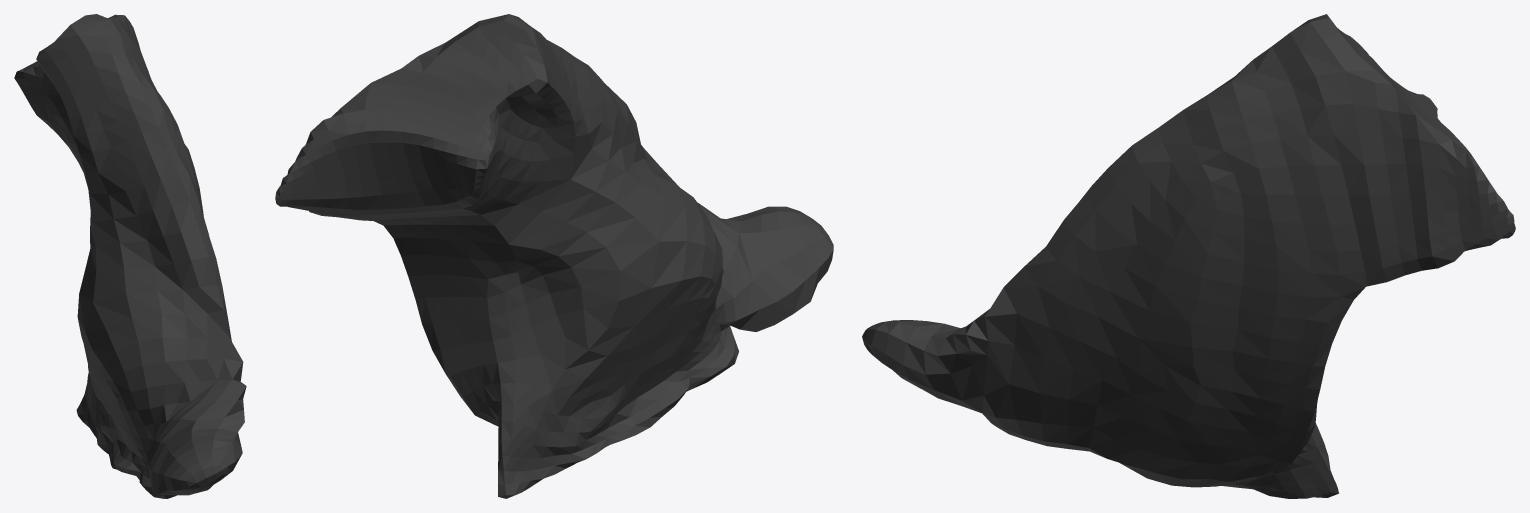
The model's file is Caudal_001.glb.
3 renders of one model, left to right at view 1: azimuth 30°, elevation 25°; view 2: azimuth 150°, elevation 25°; view 3: azimuth 270°, elevation 25°, orthographic. The views are drawn at different scales.
Visible parts, largest first — view 1: Caudal_001; view 2: Caudal_001; view 3: Caudal_001.
Part boxes in pixels (x1,y1,x2,y2): Caudal_001: (14,14,246,498); Caudal_001: (275,14,833,498); Caudal_001: (862,14,1515,498).
Size of the model in its own units: 70.58 by 130 by 160.
Materials: 1 (1 with a texture image).
